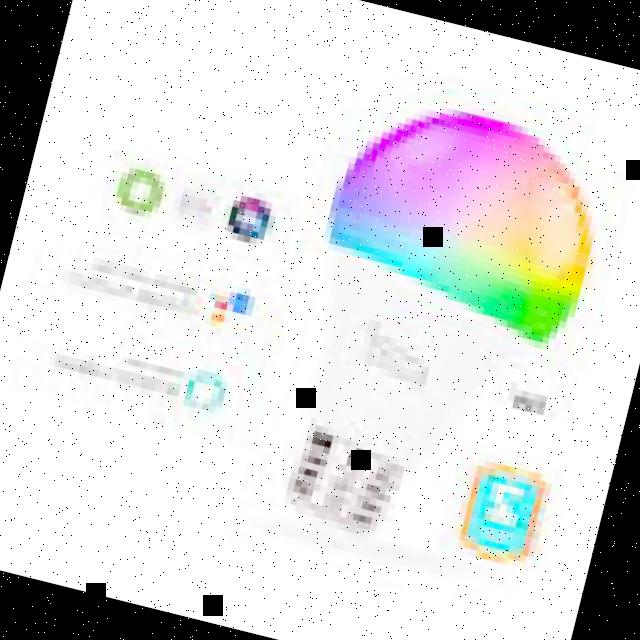light_bulb: (233, 68, 640, 596)
